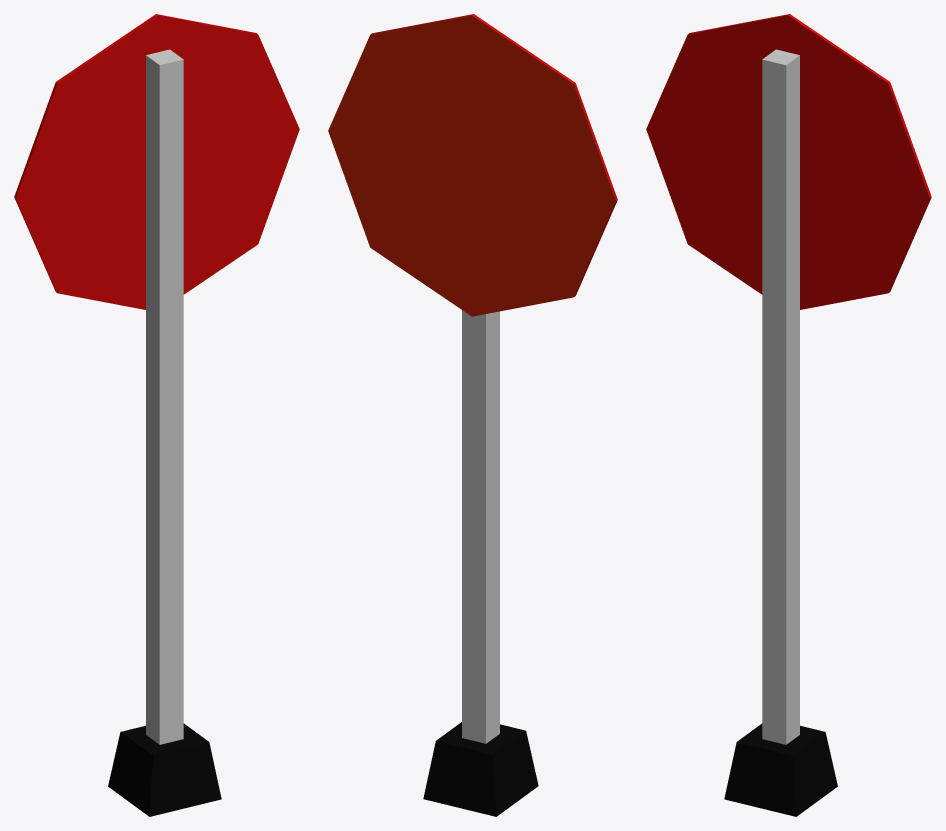
The model's file is sign.fbx.
3 renders of one model, left to right at view 1: azimuth 30°, elevation 25°; view 2: azimuth 150°, elevation 25°; view 3: azimuth 330°, elevation 25°, orthographic.
Visible parts, largest first — view 1: Cube; view 2: Cube; view 3: Cube.
Part boxes in pixels (bbox=[...]): Cube: bbox=[14, 14, 299, 816]; Cube: bbox=[328, 14, 617, 816]; Cube: bbox=[646, 14, 931, 816].
Bounding box in the file's own units: 94.45 × 246 × 24.
